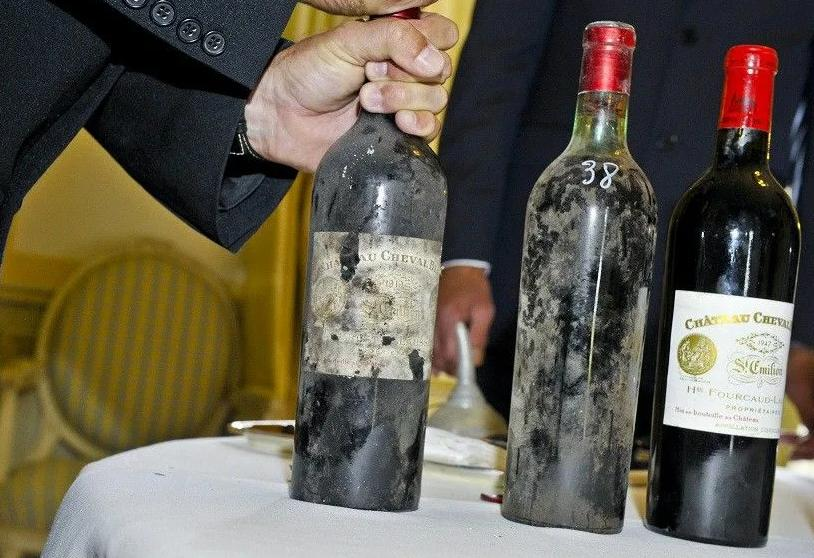wine bottle: (496, 16, 660, 537), (289, 2, 449, 513), (646, 43, 803, 549)
wine label: (661, 286, 795, 439), (307, 231, 445, 379)
